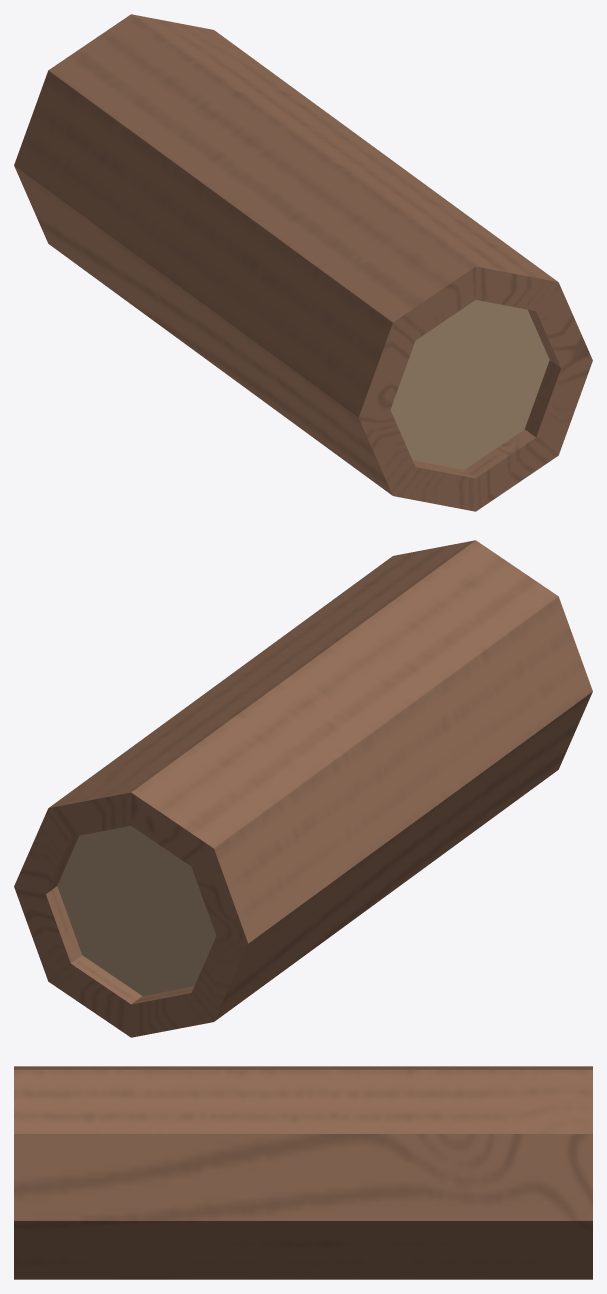
Rendered from Log.fbx.
The picture shows the model from 3 angles, top to bottom: view 1: azimuth 30°, elevation 25°; view 2: azimuth 150°, elevation 25°; view 3: azimuth 270°, elevation 25°; orthographic projection. The views are drawn at different scales.
Parts seen in each view (by area): view 1: Log; view 2: Log; view 3: Log.
Part boxes in pixels (<box>): Log: <box>14,14,592,511</box>; Log: <box>14,540,592,1037</box>; Log: <box>14,1066,592,1279</box>.
Size of the model in its own units: 41.03 by 41.03 by 105.
